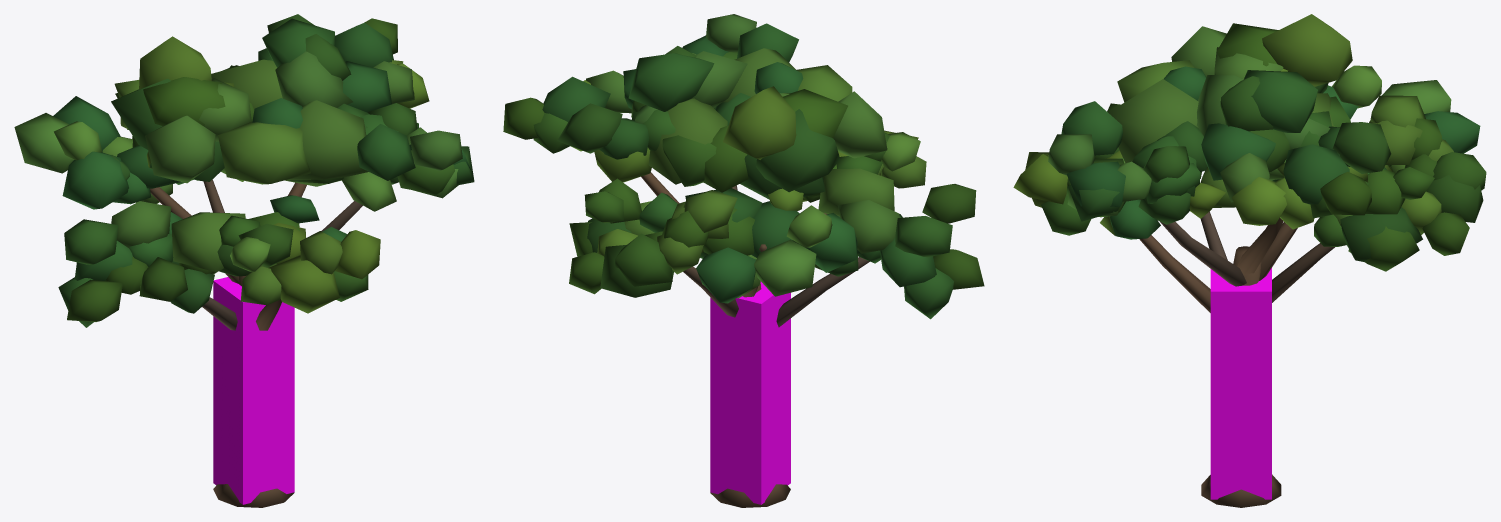
The model's file is PRP_Tree_Neem_A.glb.
3 views of the same model, side by side, from view 1: azimuth 30°, elevation 25°; view 2: azimuth 150°, elevation 25°; view 3: azimuth 270°, elevation 25° (orthographic). The views are drawn at different scales.
Visible parts, largest first — view 1: PRP_Tree_Neem_A_Mesh, COL_Trunk; view 2: PRP_Tree_Neem_A_Mesh, COL_Trunk; view 3: PRP_Tree_Neem_A_Mesh, COL_Trunk.
Part boxes in pixels (left/top/right/bottom): PRP_Tree_Neem_A_Mesh: left=14, top=14, right=474, bottom=507; COL_Trunk: left=213, top=277, right=294, bottom=504; PRP_Tree_Neem_A_Mesh: left=503, top=14, right=984, bottom=507; COL_Trunk: left=710, top=281, right=790, bottom=504; PRP_Tree_Neem_A_Mesh: left=1013, top=14, right=1486, bottom=507; COL_Trunk: left=1210, top=268, right=1271, bottom=499.
Bounding box in the file's own units: 6.31 × 6.53 × 6.19.
